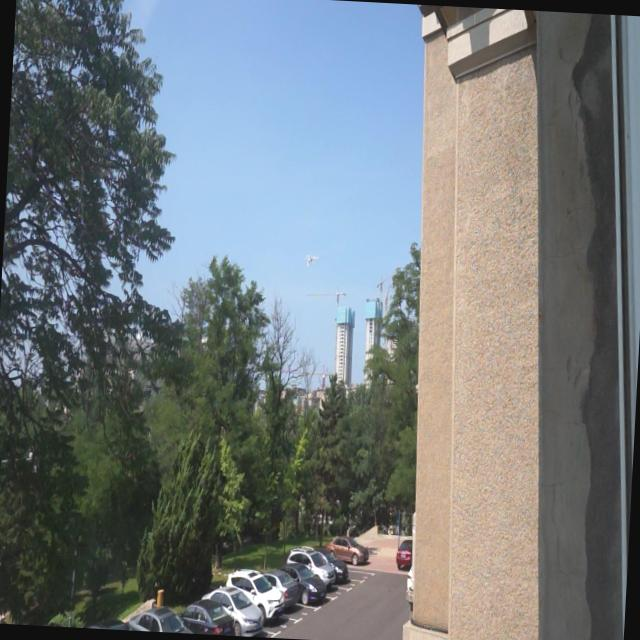drone: (304, 250, 320, 269)
